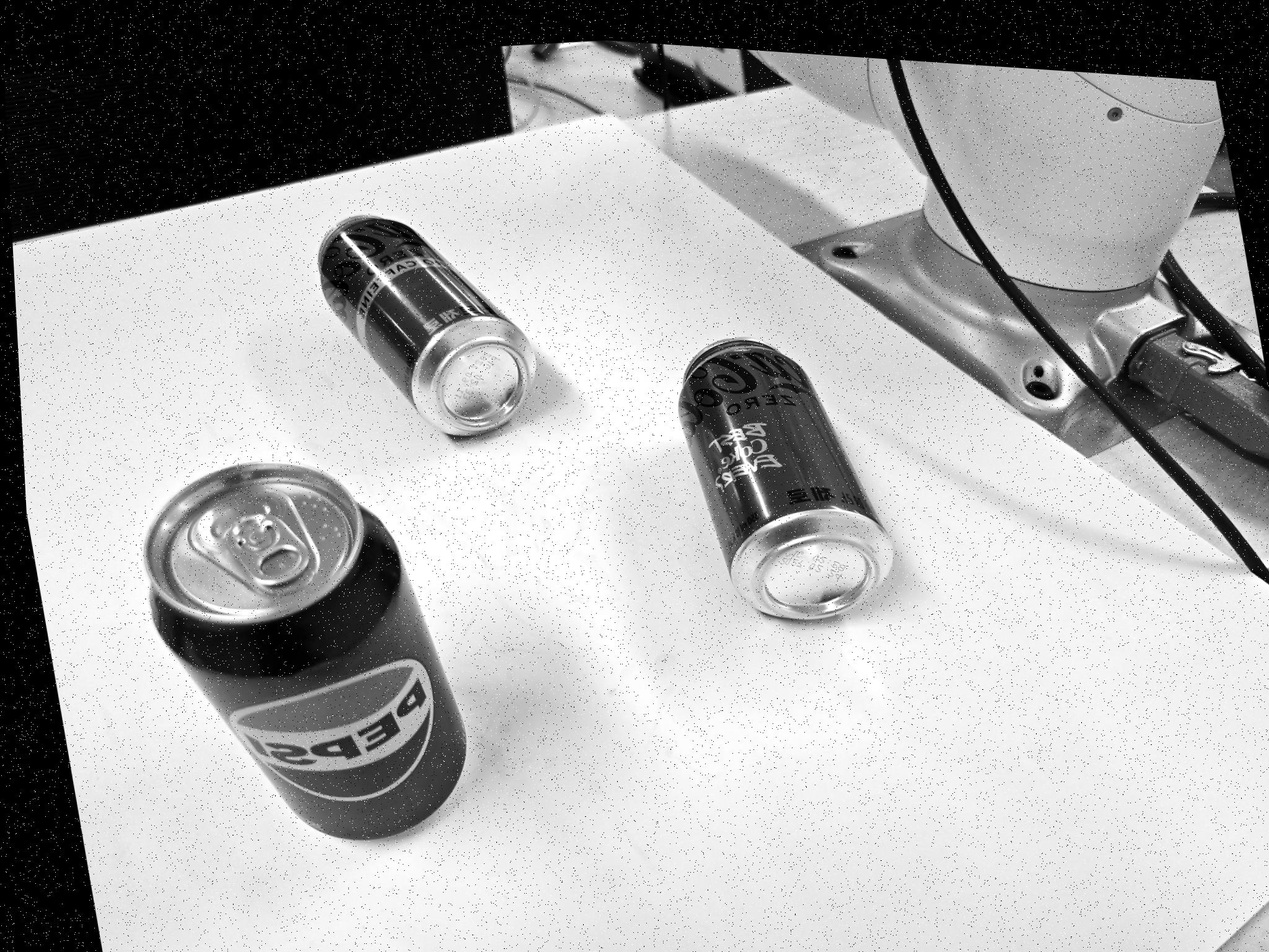can_coke_decaf: (314, 213, 542, 442)
can_coke_zero: (675, 339, 898, 622)
can_pepsi: (146, 457, 466, 837)
